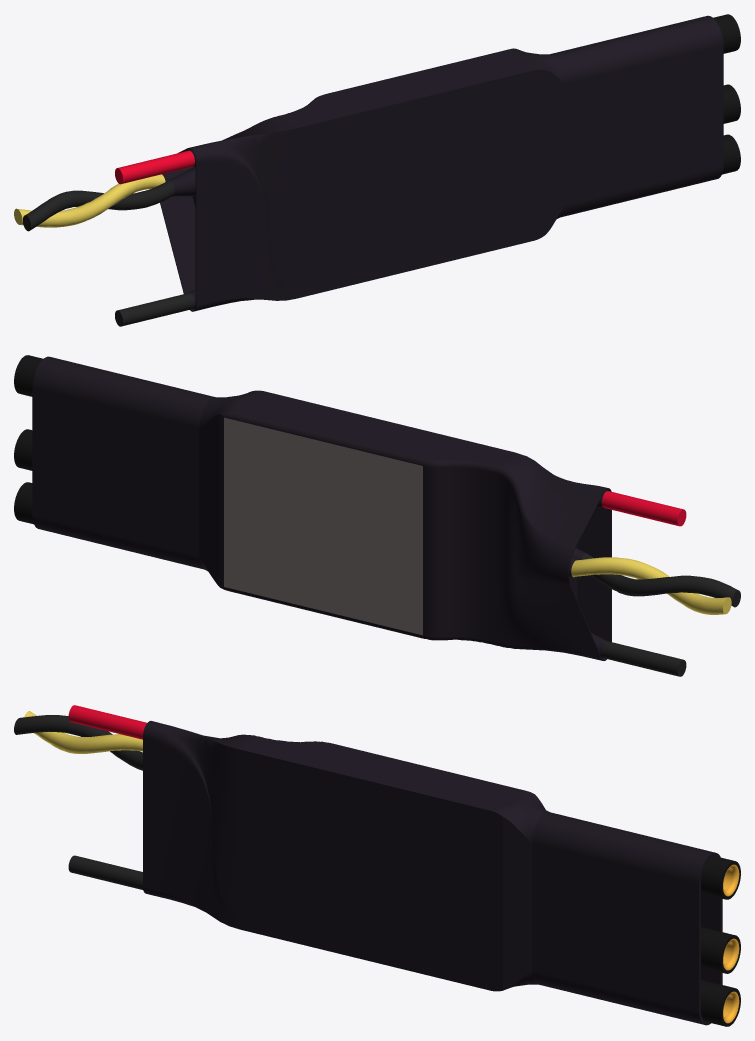
The model's file is T-Motor_AIR 15A_600Hz_2-3s_NO_BEC.fbx.
3 views of the same model, one above another, from view 1: azimuth 30°, elevation 25°; view 2: azimuth 150°, elevation 25°; view 3: azimuth 330°, elevation 25° (orthographic). The views are drawn at different scales.
Parts seen in each view (by area): view 1: T-Motor-ESC15A001, T-Motor-ESC15A; view 2: T-Motor-ESC15A001, T-Motor-ESC15A; view 3: T-Motor-ESC15A001, T-Motor-ESC15A.
Part boxes in pixels (bbox=[...]): T-Motor-ESC15A001: bbox=[14, 14, 740, 326]; T-Motor-ESC15A: bbox=[723, 84, 740, 123]; T-Motor-ESC15A001: bbox=[14, 355, 740, 676]; T-Motor-ESC15A: bbox=[14, 429, 32, 470]; T-Motor-ESC15A001: bbox=[14, 705, 740, 1026]; T-Motor-ESC15A: bbox=[701, 927, 740, 973].
Size of the model in its own units: 720 by 170 by 81.87.
